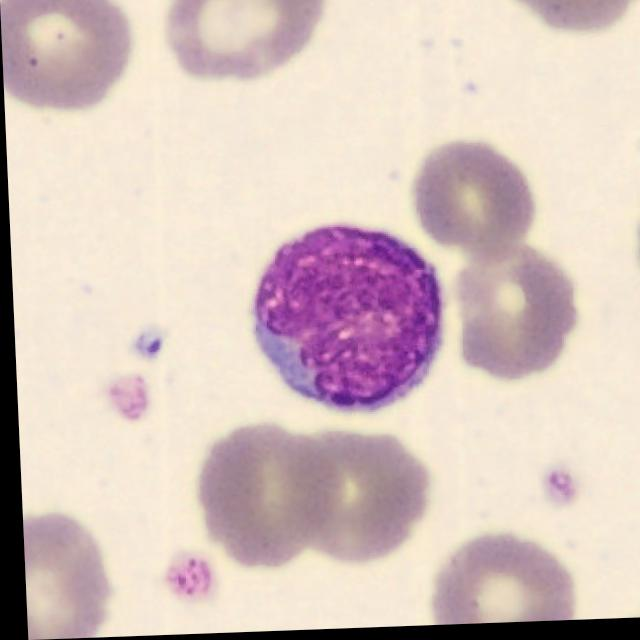Linfocito: (251, 227, 441, 415)
